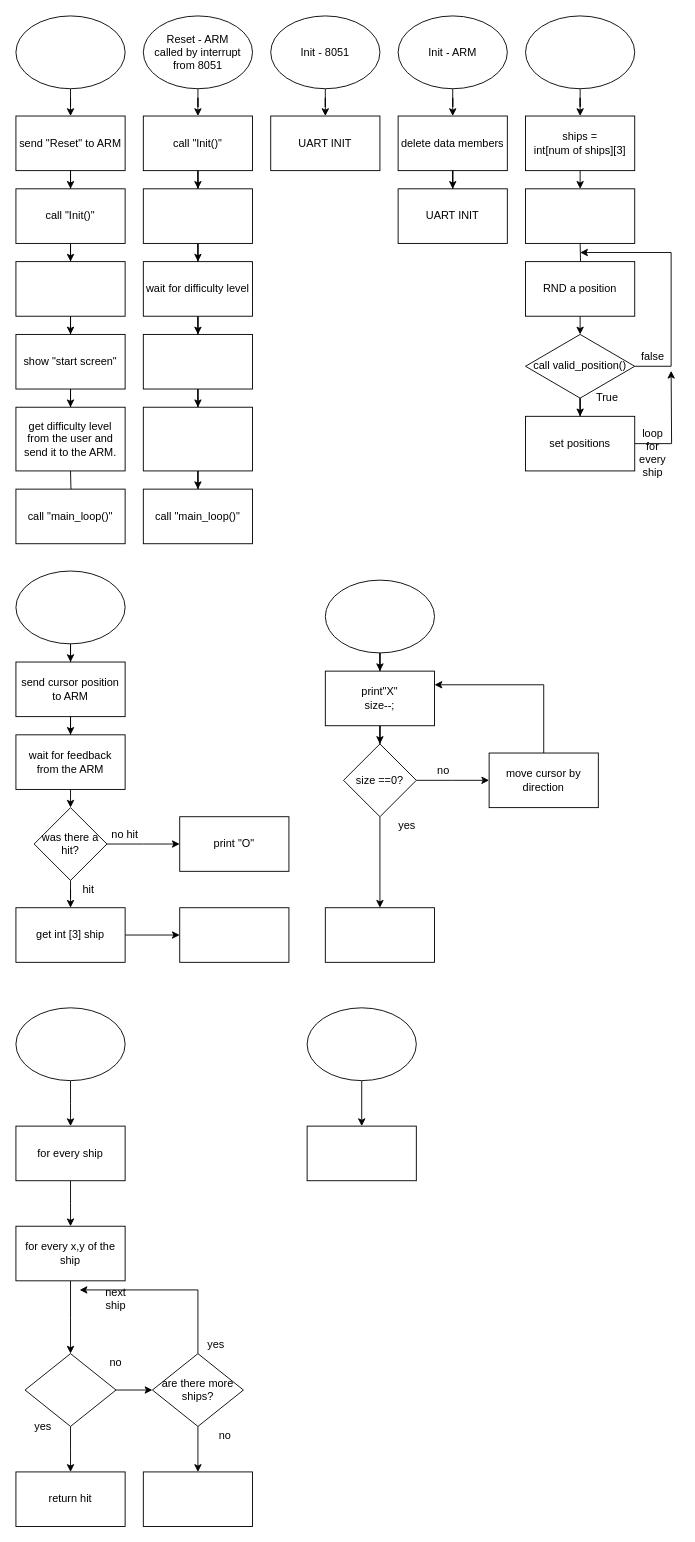
Some shapes in this 695 by 1542 pixel diagram are drawn without their labels. Each missing label, with the box of its shape:
call "LCD_Init()": (142, 188, 253, 243)
call "LCD_Init()" call "KEYPAD_INIT()": (15, 261, 125, 316)
call "make_ships" by difficulty level: (142, 334, 253, 389)
check_hit(int x , int y): (15, 1007, 125, 1081)
hit() called by external interrupt: (15, 570, 125, 644)
make_ships: (525, 15, 635, 89)
memset ships to zero: (525, 188, 635, 243)
Reset - 8051 called by external interrupt: (15, 15, 125, 89)
return: (324, 907, 435, 962)
send time(): (306, 1007, 416, 1081)
set time and number of mistakes by difficulty level: (142, 406, 253, 471)
update miss return miss: (142, 1471, 253, 1527)
write_hit(int [3] ship);: (179, 907, 289, 962)
write_hit(int size,int direction);: (324, 579, 435, 653)
x,y=x,y of the ship ?: (24, 1353, 116, 1426)
